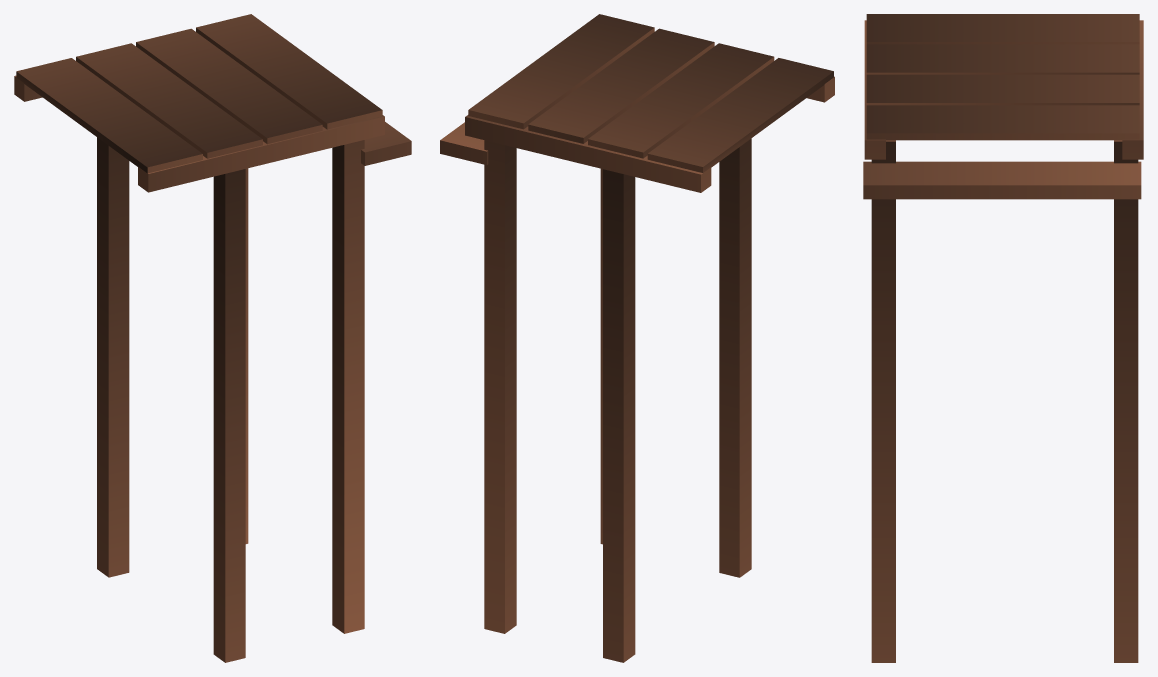
File: PierStart.fbx
The picture shows the model from 3 angles, left to right: view 1: azimuth 30°, elevation 25°; view 2: azimuth 150°, elevation 25°; view 3: azimuth 270°, elevation 25°; orthographic projection. The views are drawn at different scales.
Parts seen in each view (by area): view 1: PierStart_LOD0; view 2: PierStart_LOD0; view 3: PierStart_LOD0.
Boxes of the visible parts, x1=… form: PierStart_LOD0: x1=14, y1=14, x2=411, y2=662; PierStart_LOD0: x1=440, y1=14, x2=834, y2=662; PierStart_LOD0: x1=863, y1=14, x2=1143, y2=662.
Size of what is drawn, in the model's own units: 216 by 406 by 192.
